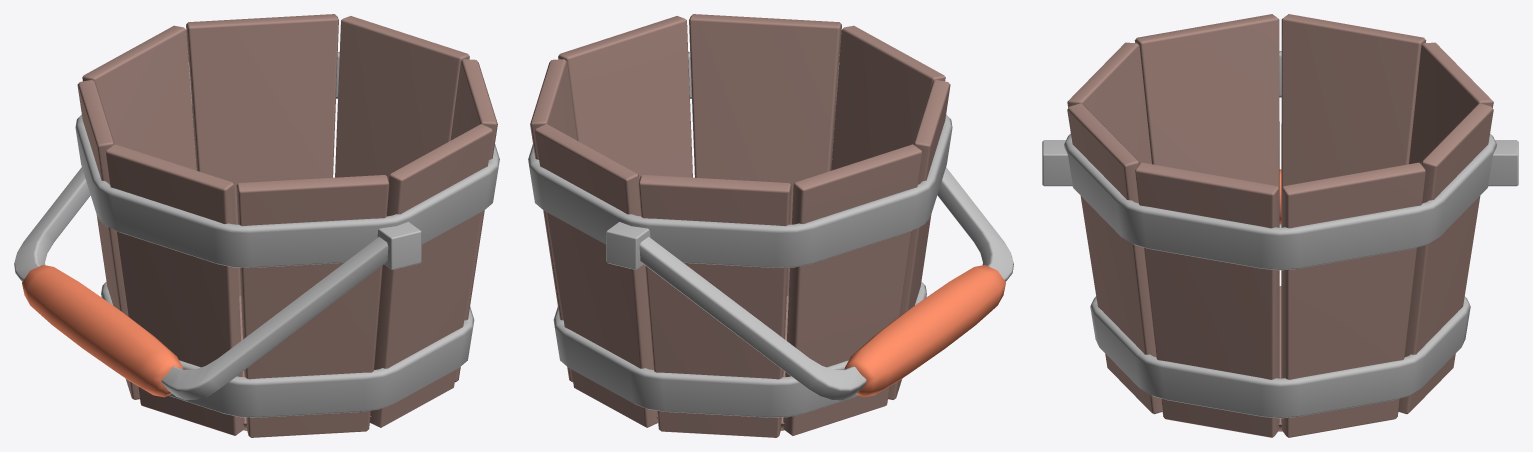
File: Farm_1_Bucket_1.glb
3 renders of one model, left to right at view 1: azimuth 30°, elevation 25°; view 2: azimuth 150°, elevation 25°; view 3: azimuth 270°, elevation 25°, orthographic.
Visible parts, largest first — view 1: Farm_1_Bucket_1; view 2: Farm_1_Bucket_1; view 3: Farm_1_Bucket_1.
Part boxes in pixels (x1=…): Farm_1_Bucket_1: x1=14, y1=14, x2=499, y2=437; Farm_1_Bucket_1: x1=528, y1=14, x2=1013, y2=437; Farm_1_Bucket_1: x1=1042, y1=14, x2=1518, y2=437.
Size of the model in its own units: 0.8386 by 0.5368 by 0.8774.
1 material, 1 textured.
